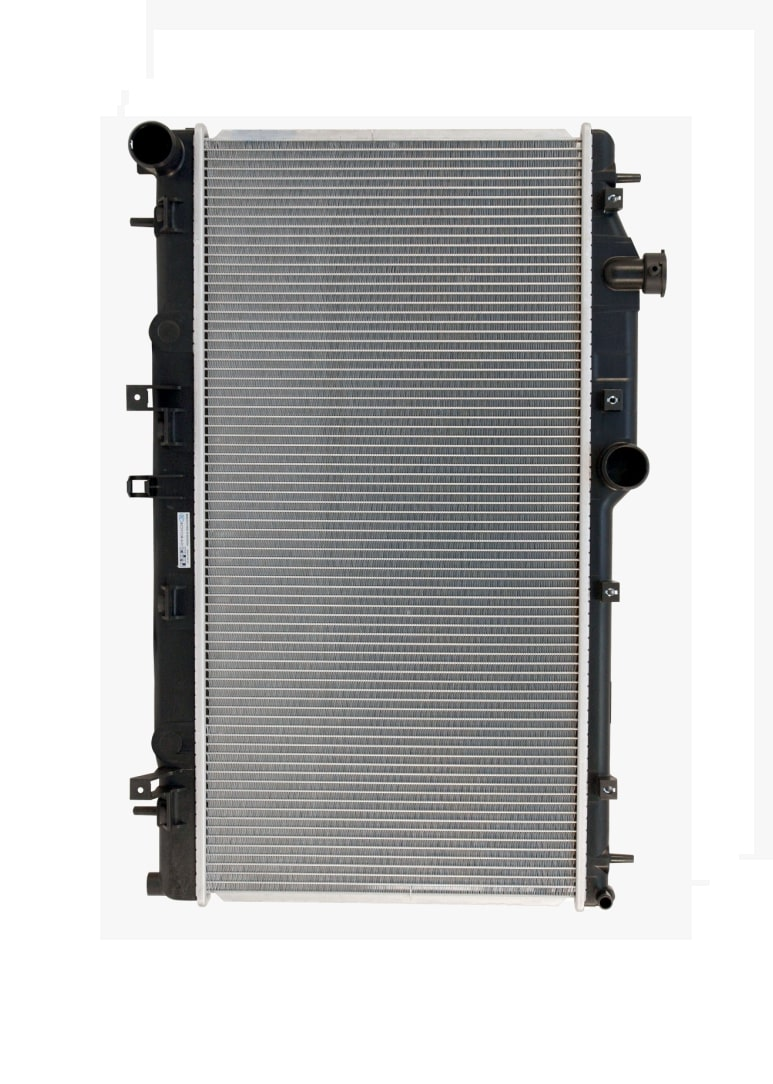c1: (592, 169, 642, 213)
c10: (154, 318, 184, 346)
c11: (126, 382, 192, 449)
c12: (126, 472, 192, 503)
c13: (157, 584, 189, 621)
c14: (130, 766, 192, 831)
c2: (602, 247, 667, 300)
c3: (601, 387, 625, 412)
c4: (600, 442, 652, 492)
c5: (599, 578, 621, 604)
c6: (598, 777, 618, 799)
c7: (591, 853, 634, 909)
c8: (126, 119, 190, 178)
c9: (130, 194, 188, 237)
